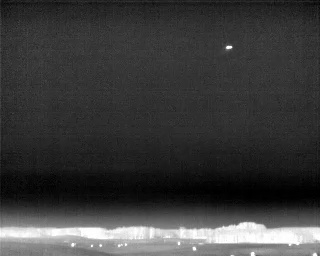AIRPLANE: (223, 42, 235, 53)
